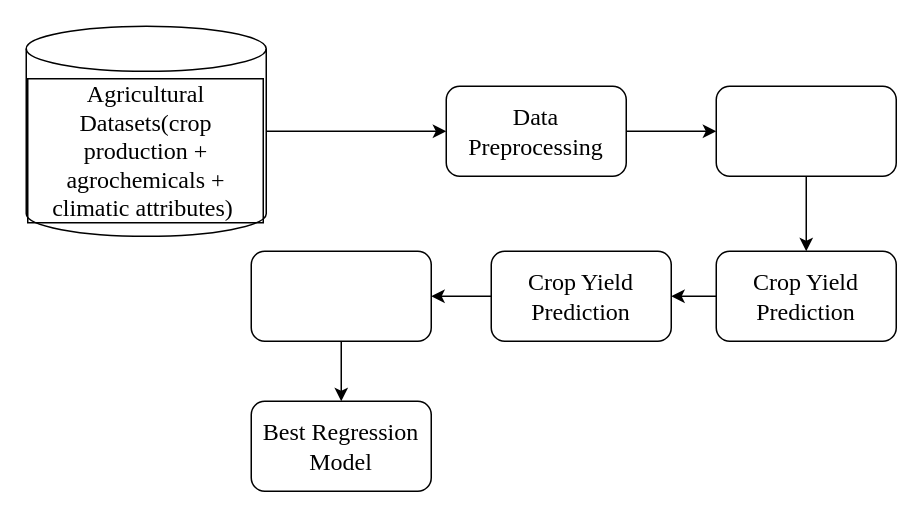
Some shapes in this 923 by 518 pixel diagram are drawn without their labels. The shapes that lost their labels are listed below. From the top down, each one's centre as x and y in pixels, then its label:
the point at 805,130: Regression Models
the point at 340,295: Performance Analysis
